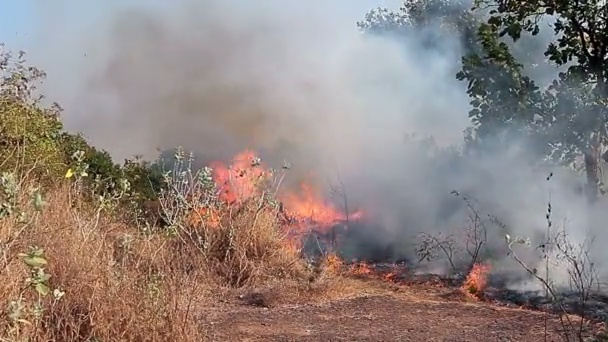fire: (65, 167, 73, 178)
